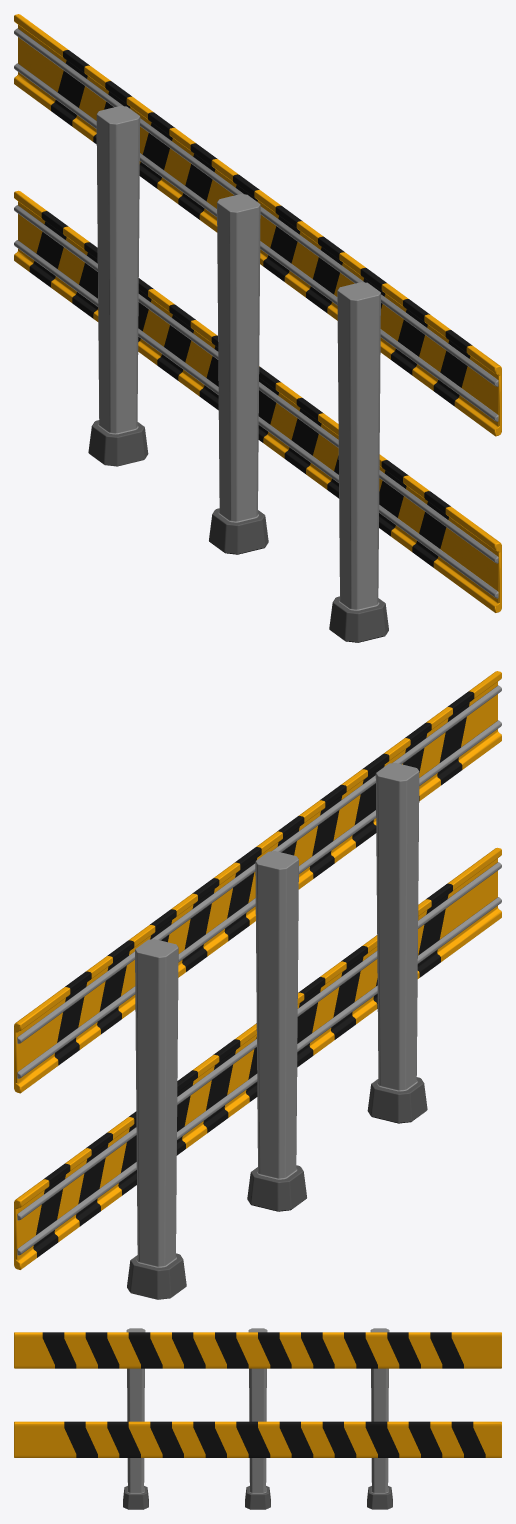
File: Gardrail_Straight.glb
3 views of the same model, one above another, from view 1: azimuth 30°, elevation 25°; view 2: azimuth 150°, elevation 25°; view 3: azimuth 270°, elevation 25° (orthographic). The views are drawn at different scales.
Visible parts, largest first — view 1: Gardrail_Straight; view 2: Gardrail_Straight; view 3: Gardrail_Straight.
Boxes of the visible parts, bbox=[...] form: Gardrail_Straight: bbox=[14, 14, 501, 642]; Gardrail_Straight: bbox=[14, 671, 501, 1299]; Gardrail_Straight: bbox=[14, 1328, 501, 1509].
Size of what is drawn, in the model's own units: 0.217 by 1.59 by 4.
1 material, 1 textured.
